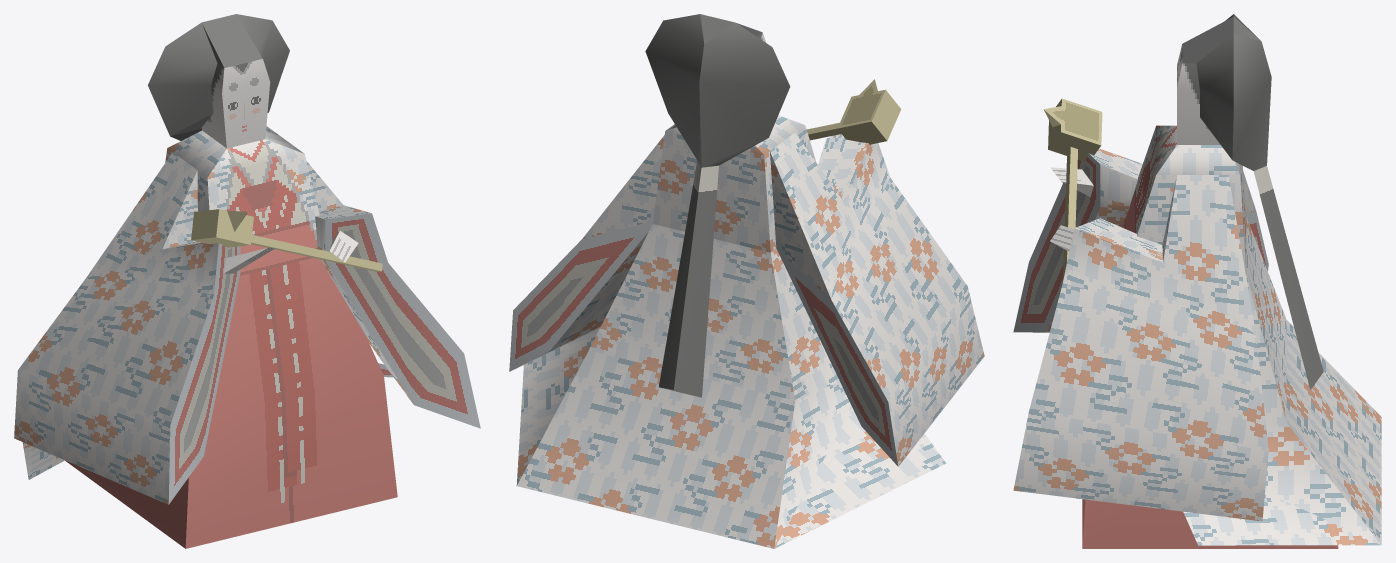
Rendered from 029b_3_Ladies-in-waiting.glb.
3 views of the same model, side by side, from view 1: azimuth 30°, elevation 25°; view 2: azimuth 150°, elevation 25°; view 3: azimuth 270°, elevation 25° (orthographic). The views are drawn at different scales.
Parts seen in each view (by area): view 1: part_0; view 2: part_0; view 3: part_0.
Boxes of the visible parts, x1,y1,x2,y2 form: part_0: (14,14,480,548); part_0: (509,14,984,548); part_0: (1013,14,1381,548).
Size of the model in its own units: 0.3385 by 0.3523 by 0.2503.
1 material, 1 textured.
